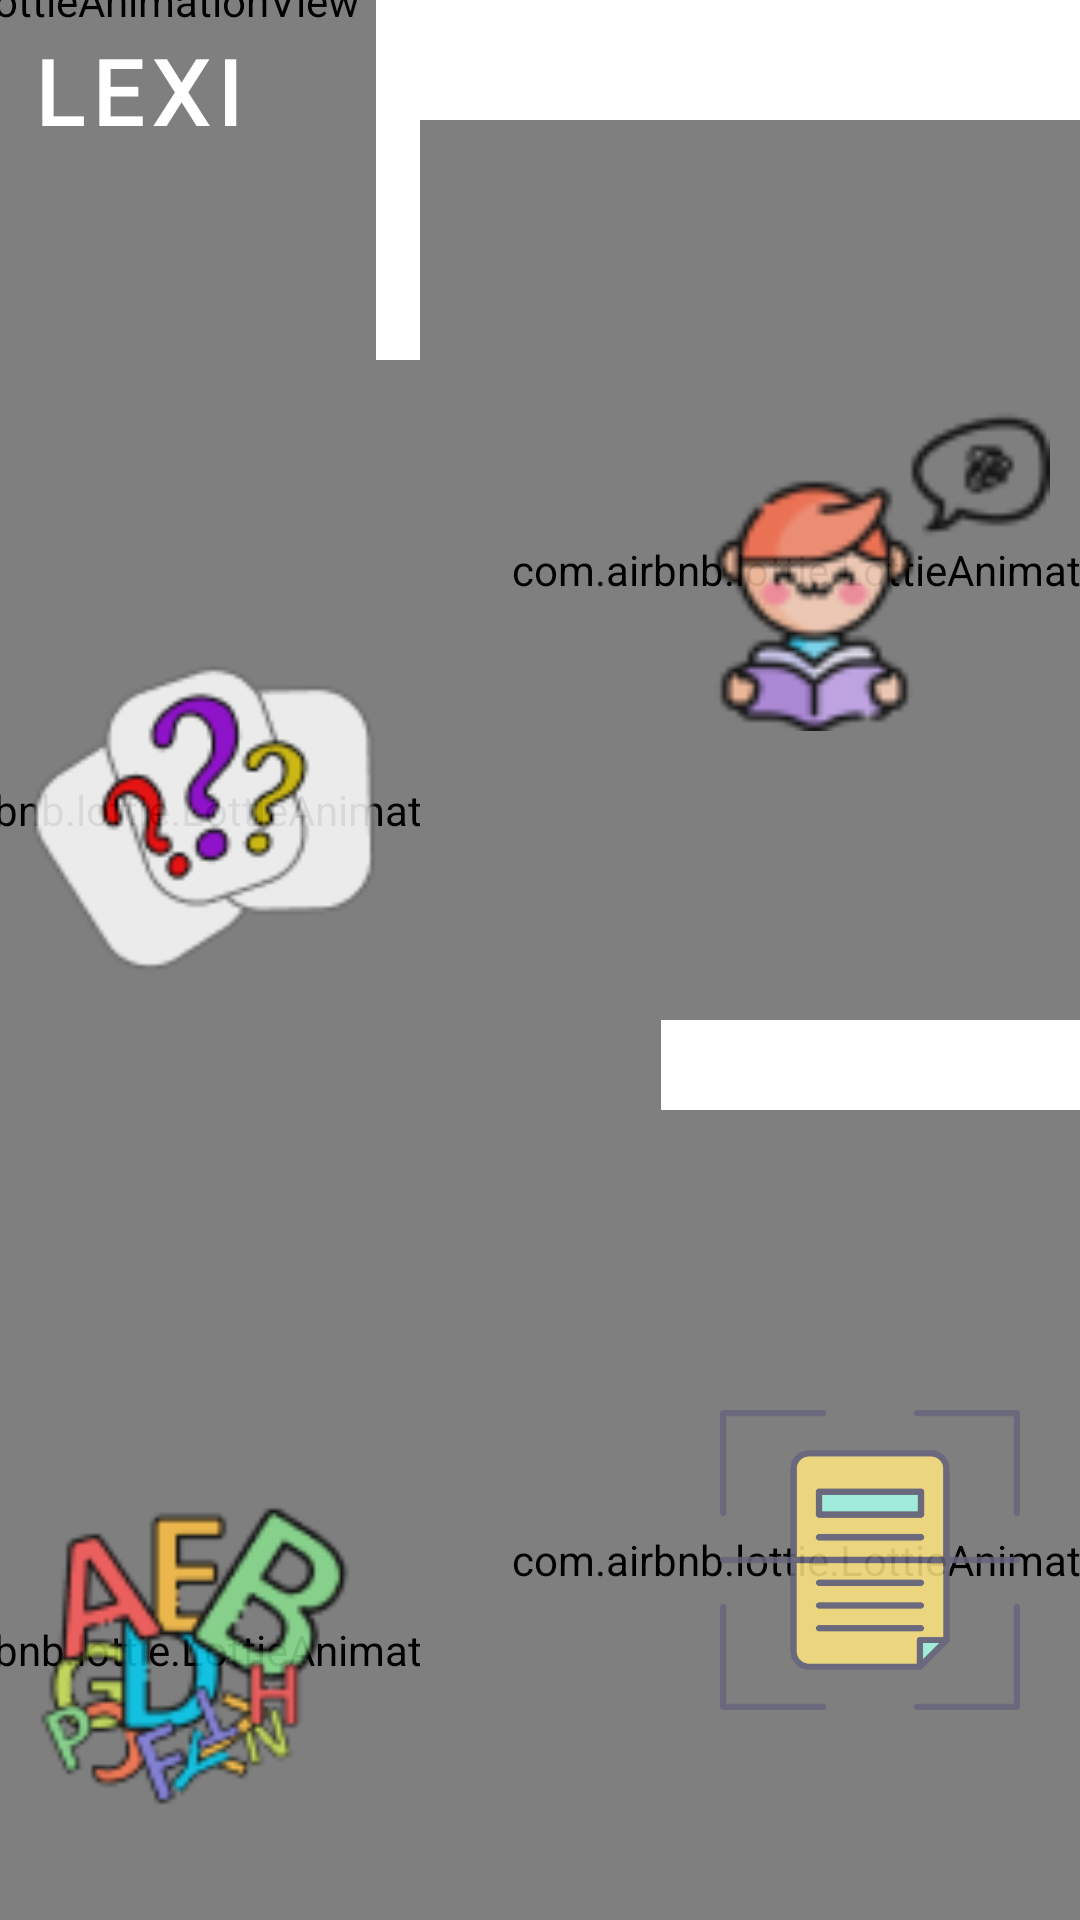

Locate icon controls on the screen. Image size 1080×1920, boxes as (x1, y1, x2, y2).
lets read: (703, 417, 1050, 731)
scanner: (727, 1456, 1005, 1664)
